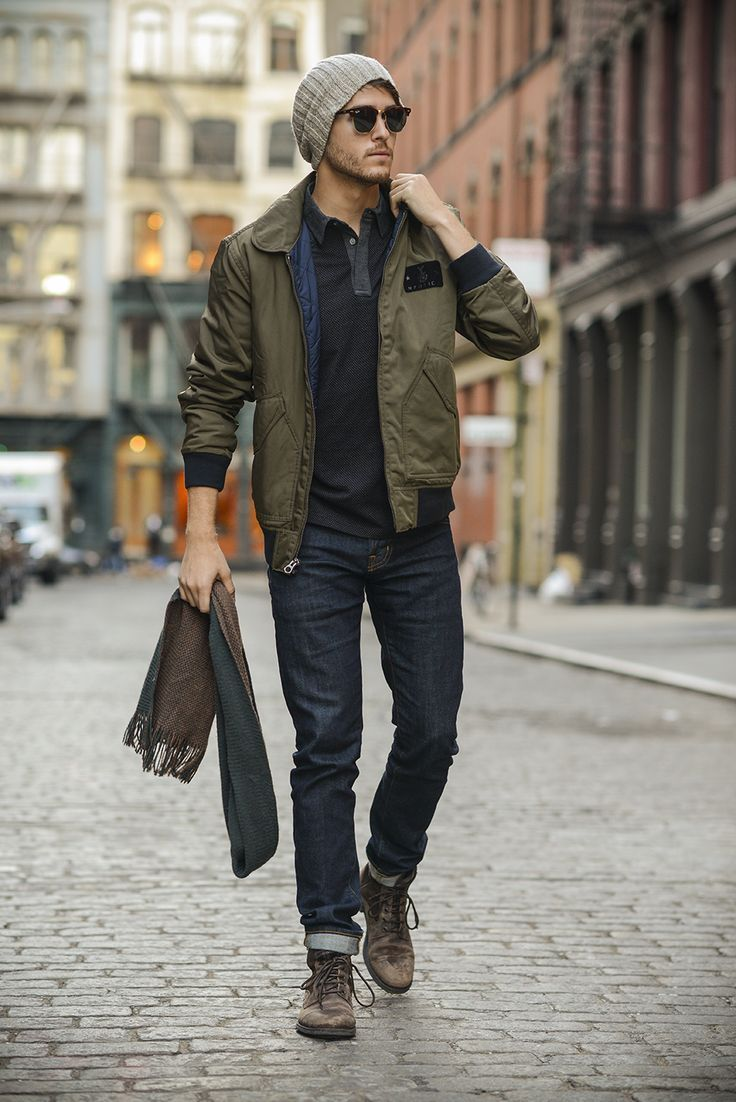NOTSAFE: (219, 44, 469, 568)
